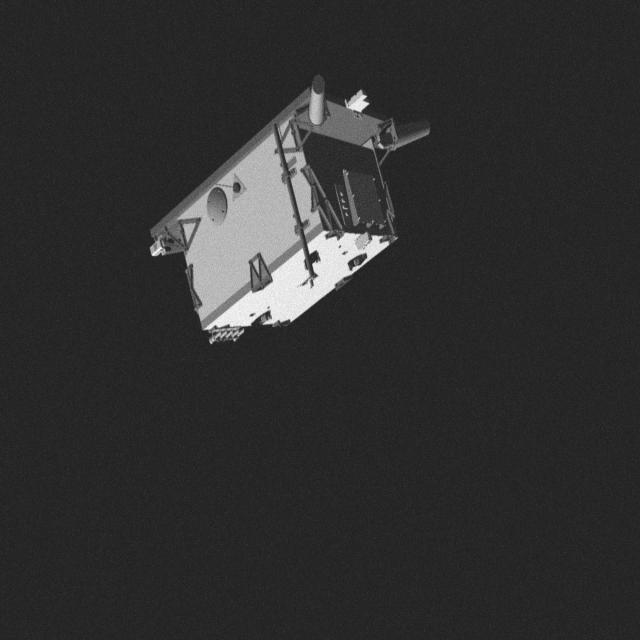satellite: (138, 74, 436, 354)
